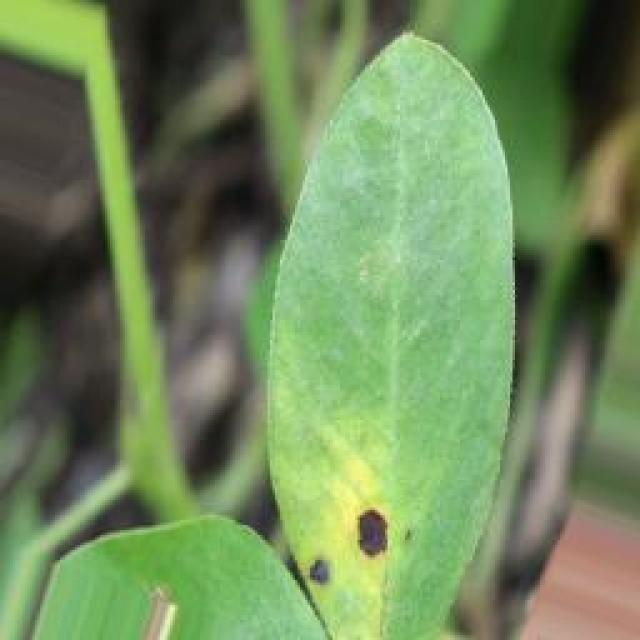Yellowish: (256, 481, 445, 604)
